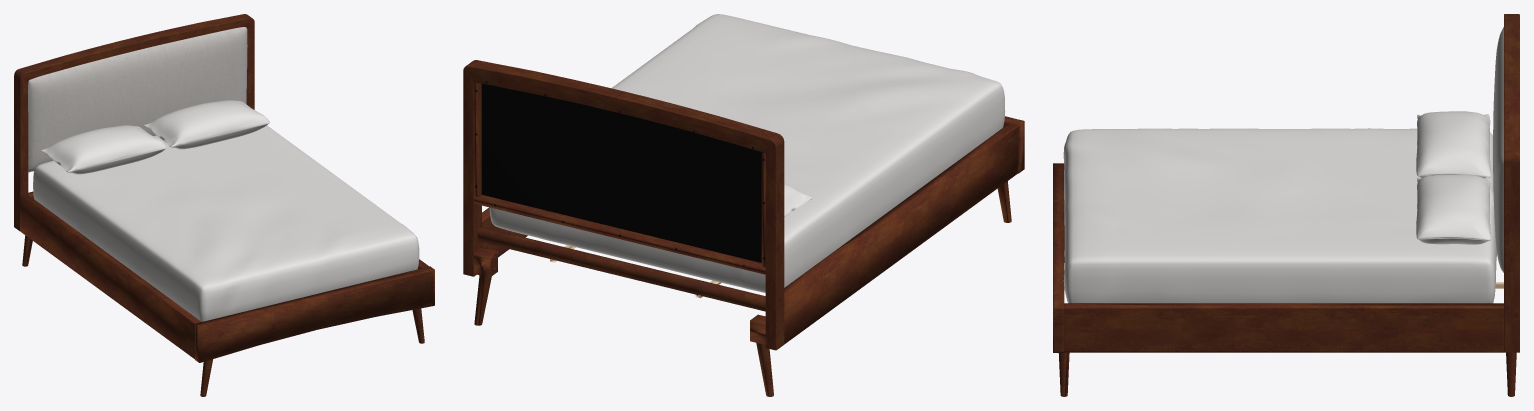
Rendered from B075X2LMTC.glb.
3 views of the same model, side by side, from view 1: azimuth 30°, elevation 25°; view 2: azimuth 150°, elevation 25°; view 3: azimuth 270°, elevation 25° (orthographic). The views are drawn at different scales.
Parts seen in each view (by area): view 1: RootNode; view 2: RootNode; view 3: RootNode.
Boxes of the visible parts, <box> form: RootNode: <box>14,14,434,396</box>; RootNode: <box>463,14,1024,396</box>; RootNode: <box>1053,14,1519,396</box>.
Bounding box in the file's own units: 1.59 × 1.28 × 2.17.
1 material, 1 textured.
